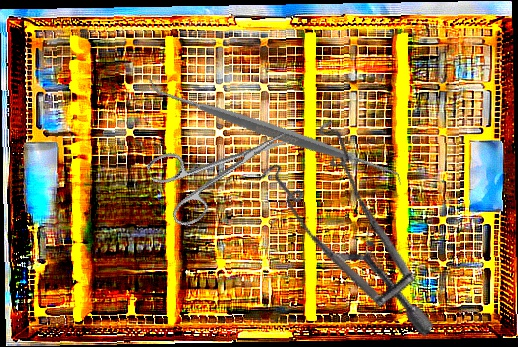Iris Scissors: (144, 105, 304, 232)
Spatula Surgical: (147, 7, 403, 256)
Speculum: (229, 101, 497, 340)
